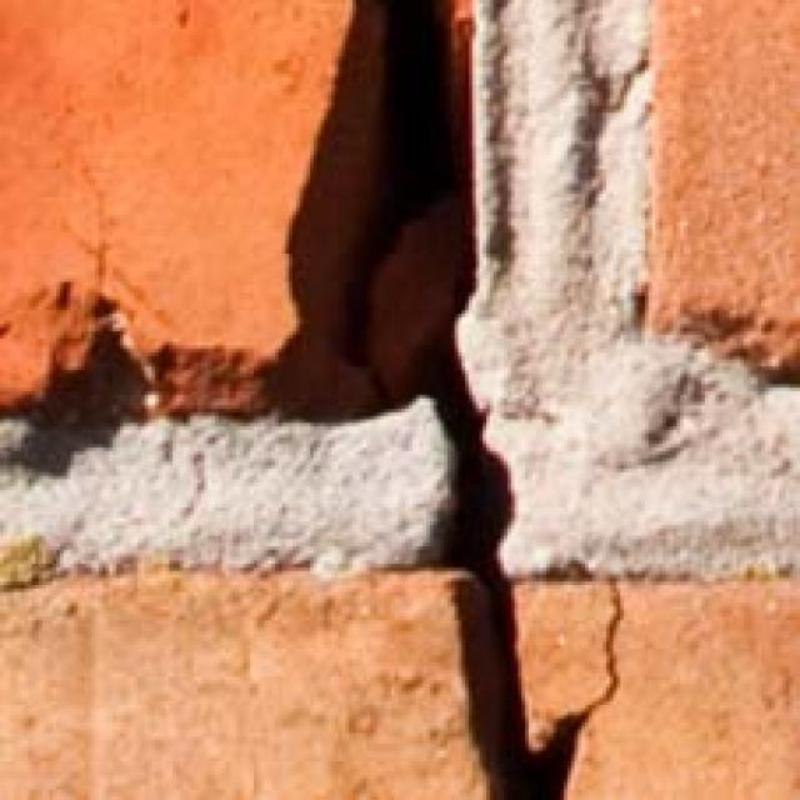crack: (422, 311, 623, 800), (341, 0, 452, 399)
